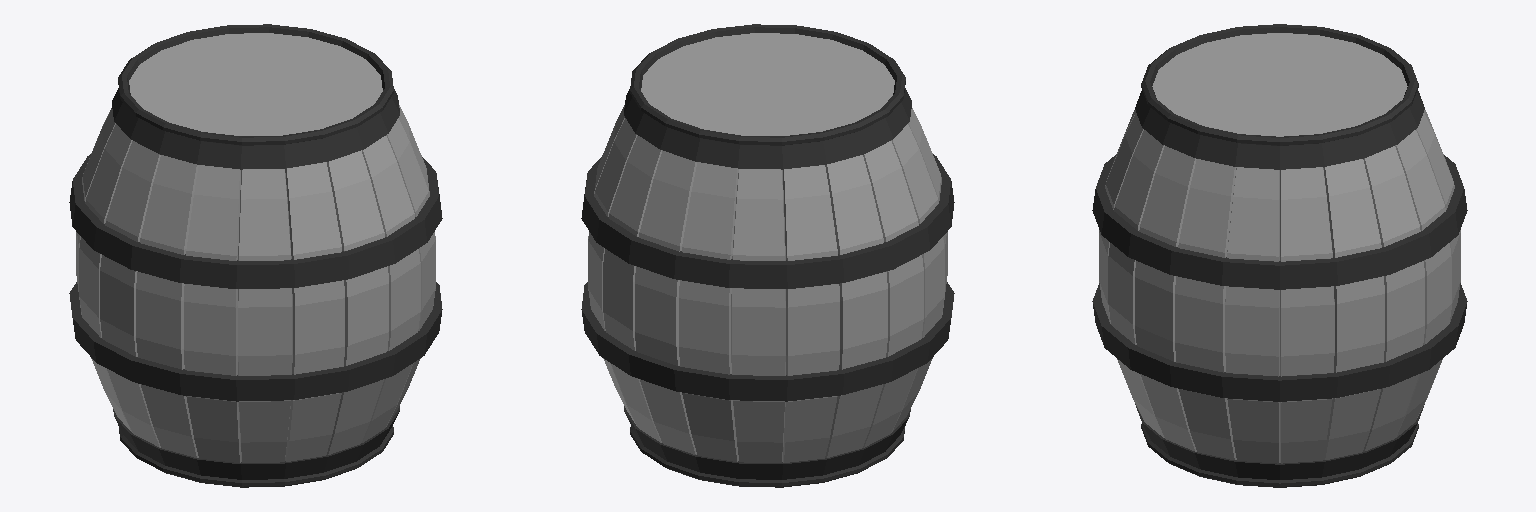
File: Barrel.obj
3 renders of one model, left to right at view 1: azimuth 30°, elevation 25°; view 2: azimuth 150°, elevation 25°; view 3: azimuth 270°, elevation 25°, orthographic.
Visible parts, largest first — view 1: Wood_Barrel1 group1 Barrel, group1 Barrel IronBand_Barrel1, group1 Barrel Barrel_Lids, group1 Barrel Barrel_Lids1; view 2: Wood_Barrel1 group1 Barrel, group1 Barrel IronBand_Barrel1, group1 Barrel Barrel_Lids, group1 Barrel Barrel_Lids1; view 3: Wood_Barrel1 group1 Barrel, group1 Barrel IronBand_Barrel1, group1 Barrel Barrel_Lids, group1 Barrel Barrel_Lids1.
Boxes of the visible parts, x1,y1,x2,y2 form: Wood_Barrel1 group1 Barrel: [76, 105, 435, 462]; group1 Barrel IronBand_Barrel1: [69, 88, 442, 479]; group1 Barrel Barrel_Lids: [118, 24, 393, 145]; group1 Barrel Barrel_Lids1: [118, 425, 393, 487]; Wood_Barrel1 group1 Barrel: [588, 105, 947, 462]; group1 Barrel IronBand_Barrel1: [581, 88, 954, 479]; group1 Barrel Barrel_Lids: [630, 24, 905, 145]; group1 Barrel Barrel_Lids1: [630, 425, 905, 487]; Wood_Barrel1 group1 Barrel: [1099, 110, 1460, 463]; group1 Barrel IronBand_Barrel1: [1092, 90, 1467, 479]; group1 Barrel Barrel_Lids: [1141, 24, 1418, 145]; group1 Barrel Barrel_Lids1: [1141, 424, 1418, 487].
Bounding box in the file's own units: 21.58 × 22.2 × 21.58.